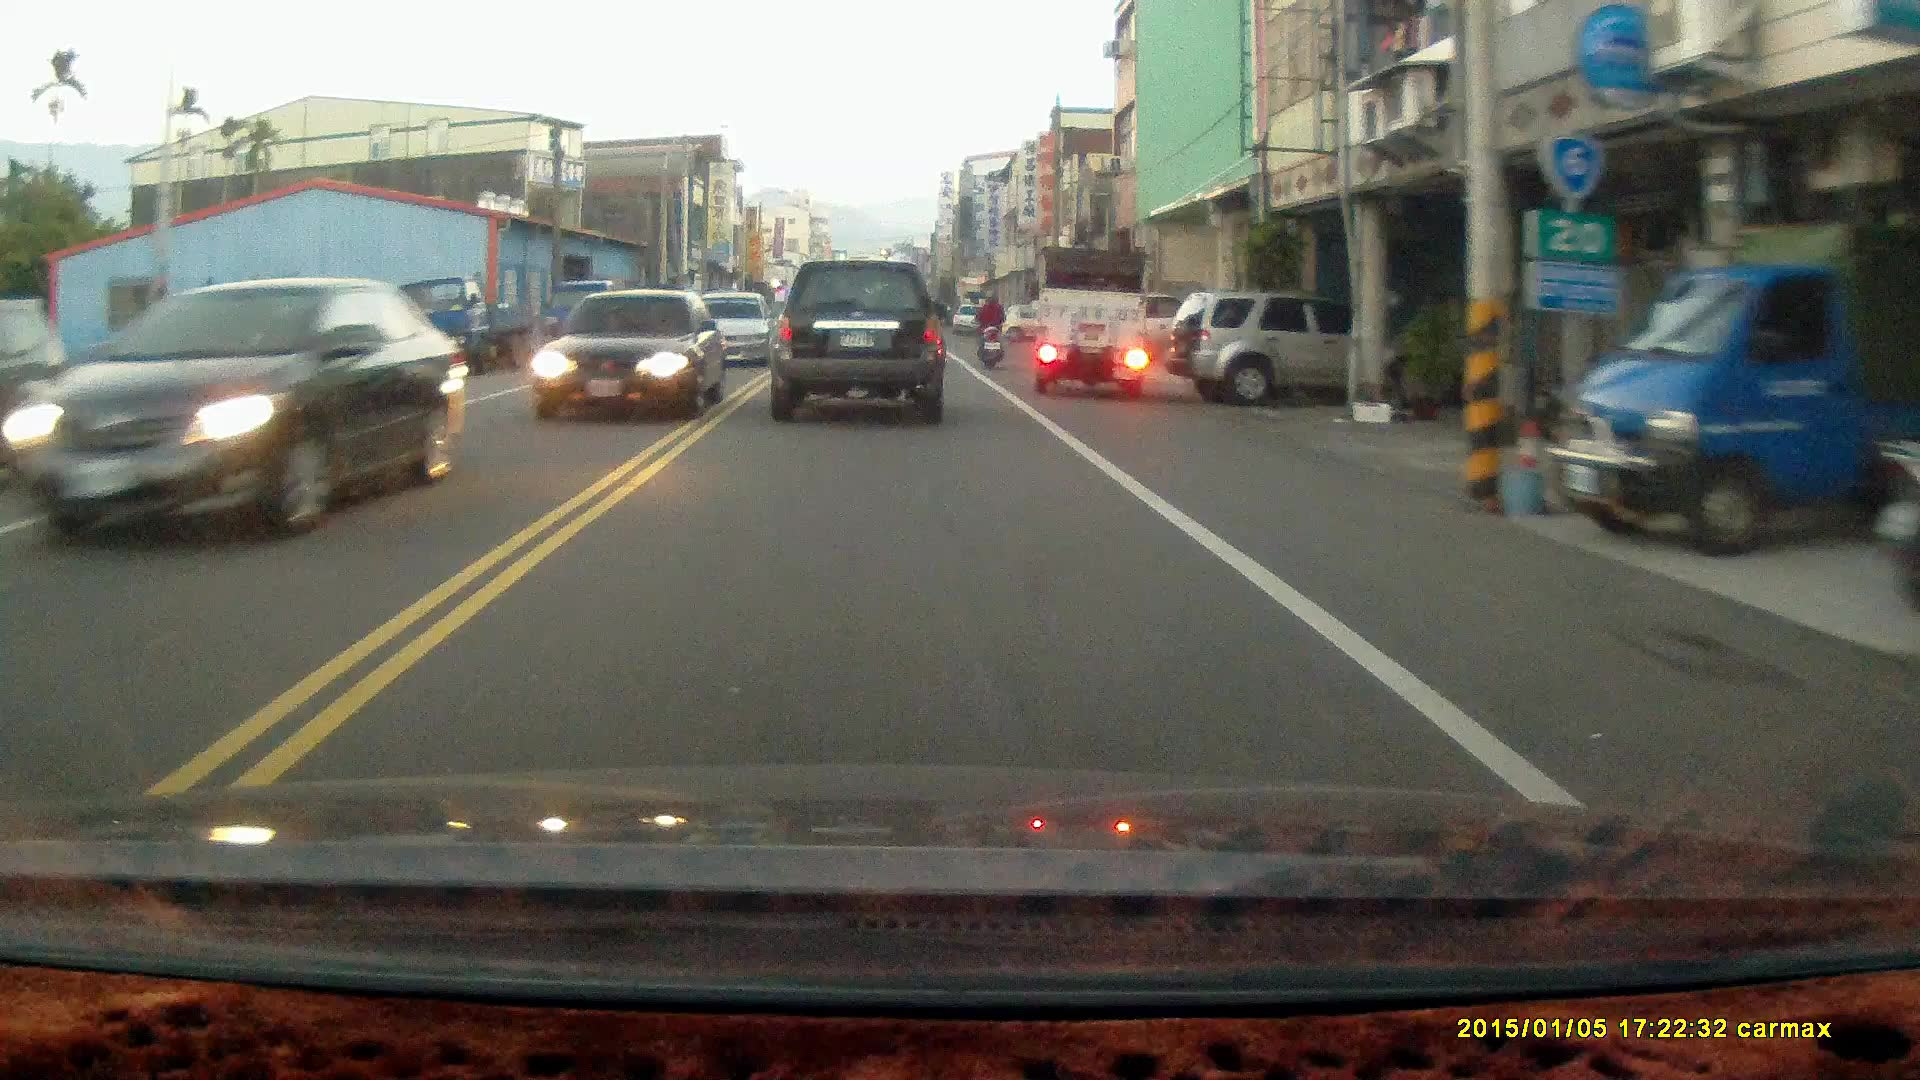rider: (972, 287, 1006, 368)
vehicle: (1554, 179, 1911, 560), (13, 275, 449, 539), (767, 263, 948, 428), (535, 288, 724, 427), (1164, 291, 1361, 407), (1035, 247, 1150, 397), (1, 288, 79, 488)
